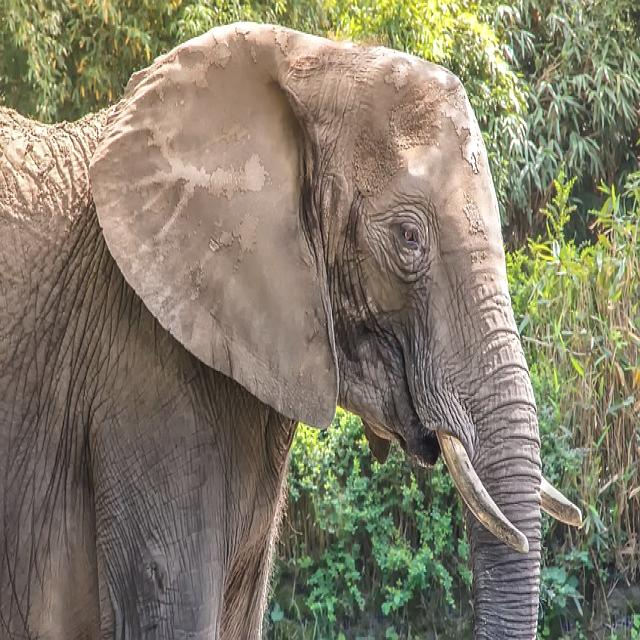FIL: (0, 16, 583, 640)
